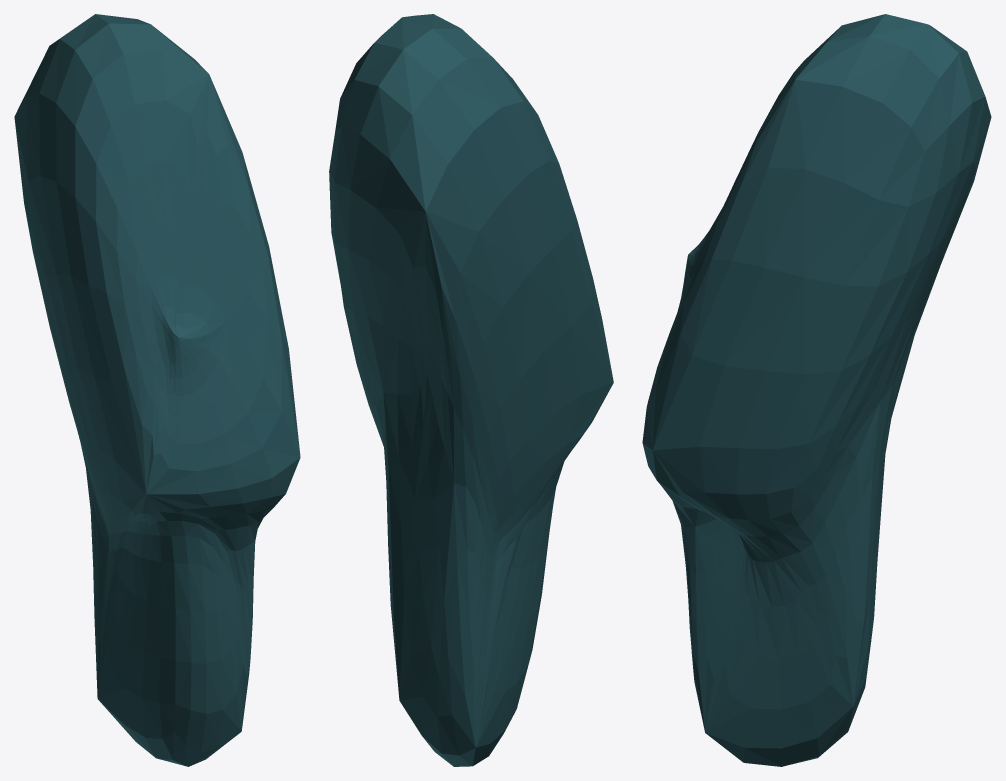
3 renders of one model, left to right at view 1: azimuth 30°, elevation 25°; view 2: azimuth 150°, elevation 25°; view 3: azimuth 270°, elevation 25°, orthographic. The views are drawn at different scales.
Parts seen in each view (by area): view 1: 952_Cube.3852; view 2: 952_Cube.3852; view 3: 952_Cube.3852.
Part boxes in pixels (box(x1,y1,x2,y2)): 952_Cube.3852: box(14, 14, 300, 766); 952_Cube.3852: box(329, 14, 613, 766); 952_Cube.3852: box(642, 14, 991, 766).
Size of the model in its own units: 4.64 by 17.3 by 7.34.
